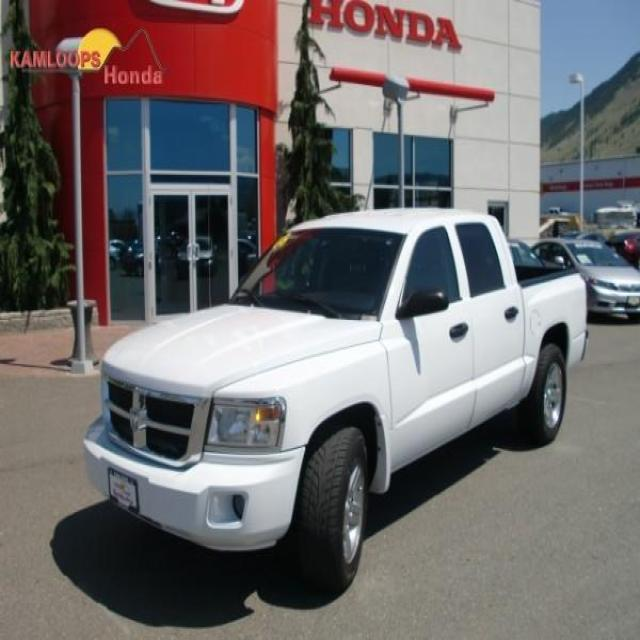Truck: (72, 194, 635, 598)
